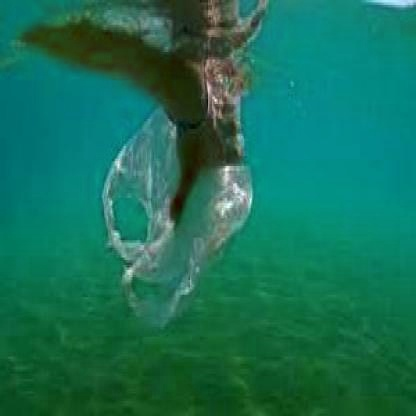pbag: (100, 79, 252, 332)
